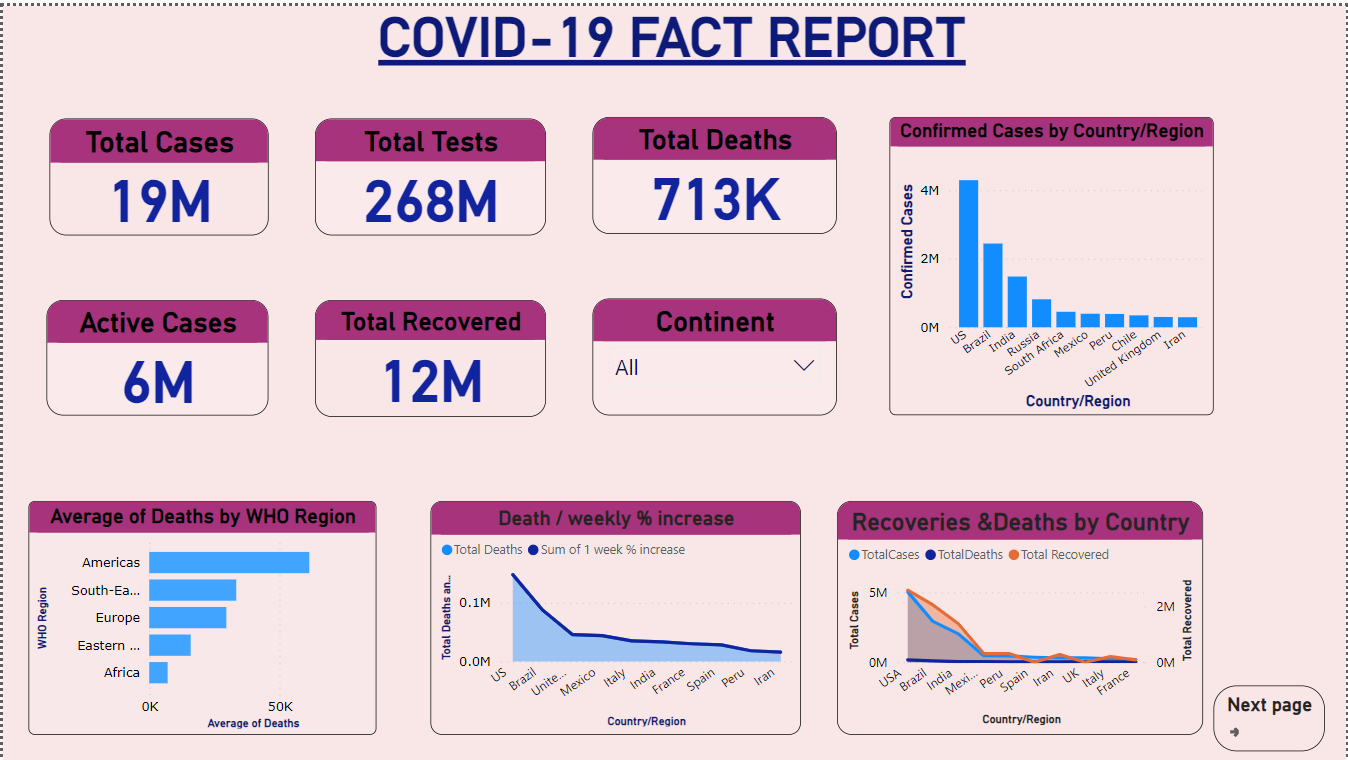

The dashboard page shown, as its layout file describes it:
{"tool":"powerbi","page":{"name":"Report-1","canvas":[1280,720],"ordinal":0},"visuals":[{"type":"card","title":"Total Cases","fields":{"Values":["Sum(worldometer_data.TotalCases)"]},"box":[44.3,107.1,208.6,111.4],"z":0},{"type":"card","title":"Total Deaths","fields":{"Values":["Sum(worldometer_data.TotalDeaths)"]},"box":[561.4,105.7,232.9,111.4],"z":1},{"type":"card","title":"Total Recovered","fields":{"Values":["Sum(worldometer_data.TotalRecovered)"]},"box":[297.1,280,220,111.4],"z":2},{"type":"card","title":"Total Tests","fields":{"Values":["Sum(worldometer_data.TotalTests)"]},"box":[297.1,107.1,220,111.4],"z":3},{"type":"card","title":"Active Cases","fields":{"Values":["Sum(worldometer_data.ActiveCases)"]},"box":[41.4,280,211.4,110],"z":4},{"type":"clusteredColumnChart","title":"Confirmed Cases by Country/Region","fields":{"Category":["country_wise_latest.Country/Region"],"Y":["Sum(country_wise_latest.Confirmed)"]},"box":[844.3,105.7,308.6,284.3],"z":5},{"type":"stackedAreaChart","title":"Death / weekly % increase","fields":{"Category":["country_wise_latest.Country/Region"],"Y":["Sum(country_wise_latest.Deaths)","Sum(country_wise_latest.1 week % increase)"]},"box":[407.1,471.4,352.9,222.9],"z":6},{"type":"barChart","fields":{"Category":["country_wise_latest.WHO Region"],"Y":["Avg(country_wise_latest.Deaths)"]},"box":[24.3,471.4,331.4,222.9],"z":11},{"type":"slicer","title":"Continent","fields":{"Values":["worldometer_data.Continent"]},"box":[561.4,278.6,232.9,111.4],"z":12},{"type":"areaChart","title":"Recoveries &Deaths by Country","fields":{"Y":["Sum(worldometer_data.TotalCases)","Sum(worldometer_data.TotalDeaths)"],"Y2":["Sum(worldometer_data.TotalRecovered)"],"Category":["worldometer_data.Country/Region"]},"box":[794.3,471.4,348.6,222.9],"z":14},{"type":"actionButton","title":"Next page","box":[1152.9,647.1,105.7,62.9],"z":20},{"type":"textbox","title":"COVID-19 FACT REPORT","box":[0,0,1274.3,60],"z":21}]}

Visuals, with their boxes in screenshot pixels (x1, y1, x2, y2), scaled from the page's 1280x720 canvas onto the 1348x760 screenshot:
"Total Cases" card: x1=47, y1=113, x2=266, y2=231
"Total Deaths" card: x1=591, y1=112, x2=836, y2=229
"Total Recovered" card: x1=313, y1=296, x2=545, y2=413
"Total Tests" card: x1=313, y1=113, x2=545, y2=231
"Active Cases" card: x1=44, y1=296, x2=266, y2=412
"Confirmed Cases by Country/Region" clusteredColumnChart: x1=889, y1=112, x2=1214, y2=412
"Death / weekly % increase" stackedAreaChart: x1=429, y1=498, x2=800, y2=733
barChart - country_wise_latest.WHO Region x Avg(country_wise_latest.Deaths): x1=26, y1=498, x2=375, y2=733
"Continent" slicer: x1=591, y1=294, x2=836, y2=412
"Recoveries &Deaths by Country" areaChart: x1=836, y1=498, x2=1204, y2=733
"Next page" actionButton: x1=1214, y1=683, x2=1325, y2=749
"COVID-19 FACT REPORT" textbox: x1=0, y1=0, x2=1342, y2=63
